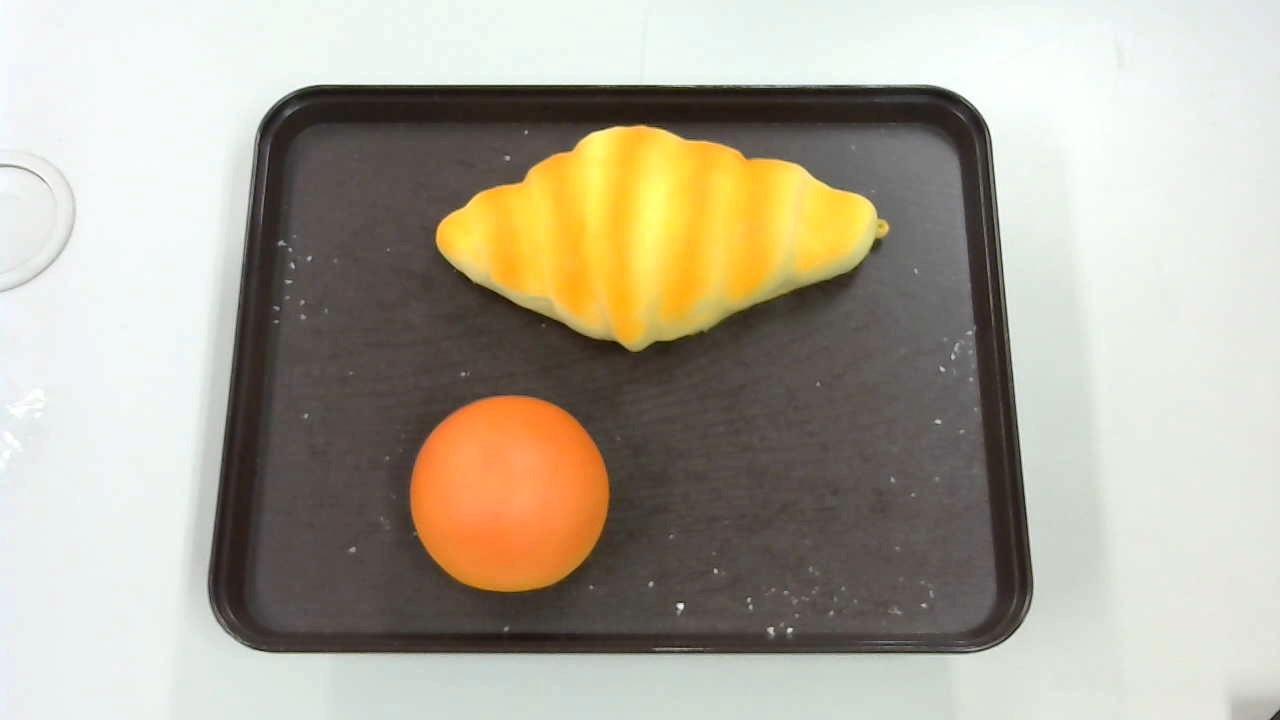bun: (409, 395, 609, 593)
croissant: (436, 125, 889, 351)
